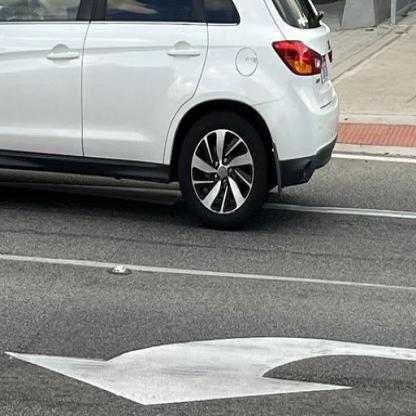Tire: (179, 110, 269, 232)
